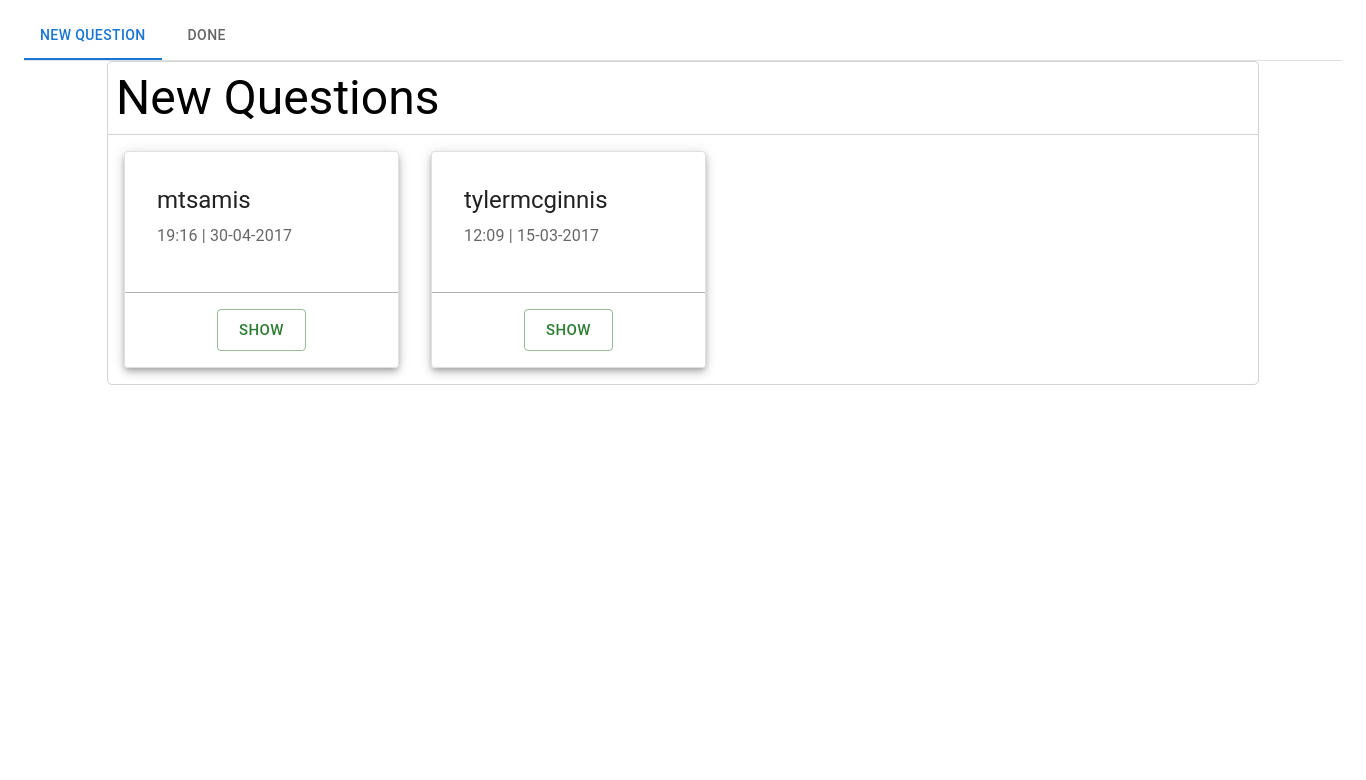
Test case: Dashboard Component › renders Done tab content correctly
This screenshot has width=1366, height=780.
Click the tab "Done": x=207, y=36 top-left (162, 12), bottom-right (252, 60)
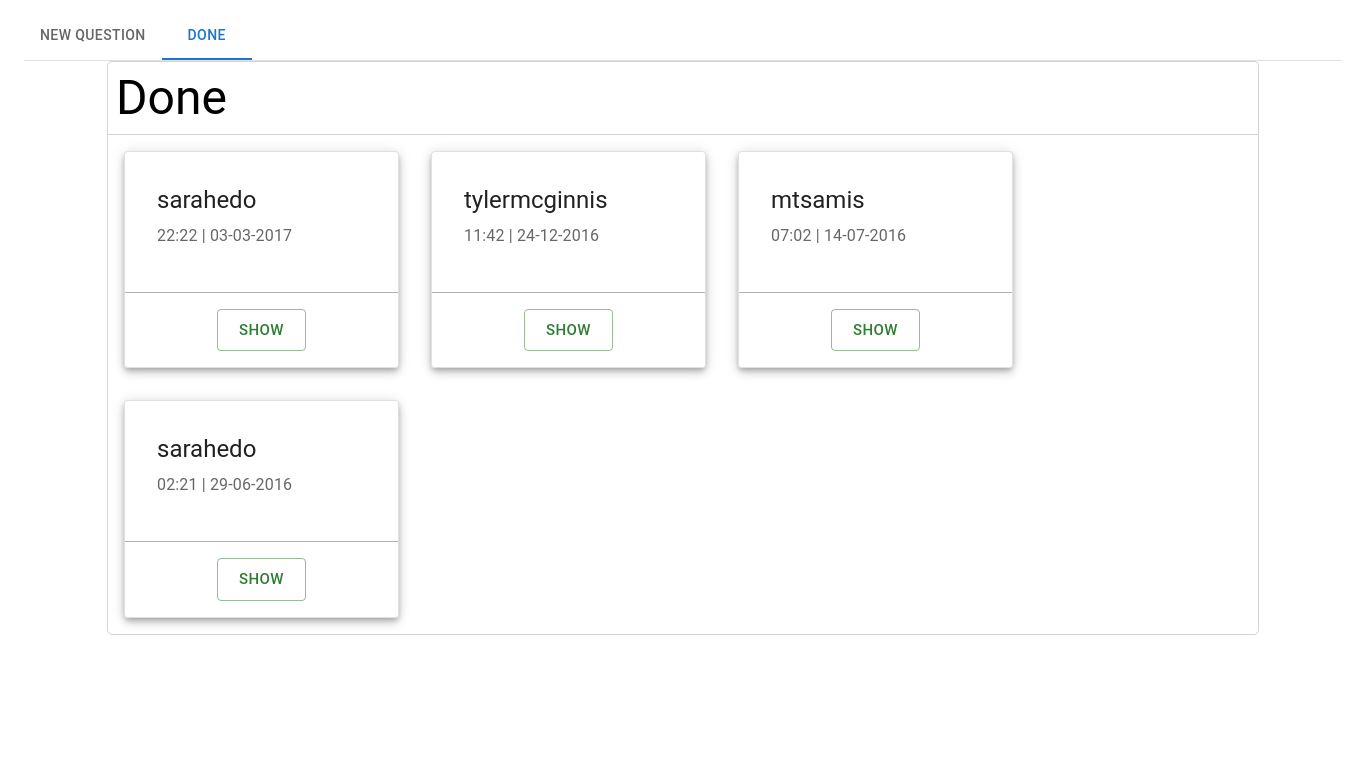
Now the number of buttons "Show" is 4, box top-left (217, 309), bottom-right (306, 351); top-left (524, 309), bottom-right (613, 351); top-left (831, 309), bottom-right (920, 351); top-left (217, 558), bottom-right (306, 601)
